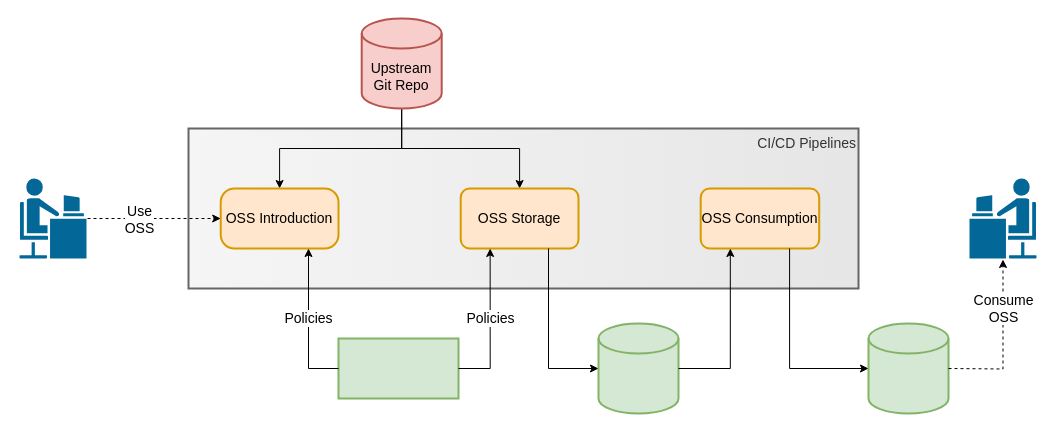
Image size: 1055x431. Some labels were removed from this diagram. Each missing label, with the centre of its shape:
"Policy Engine" belongs at [398,368].
"Trusted Artifact Repo" belongs at [908,368].
"Trusted Git Repo" belongs at [638,368].
